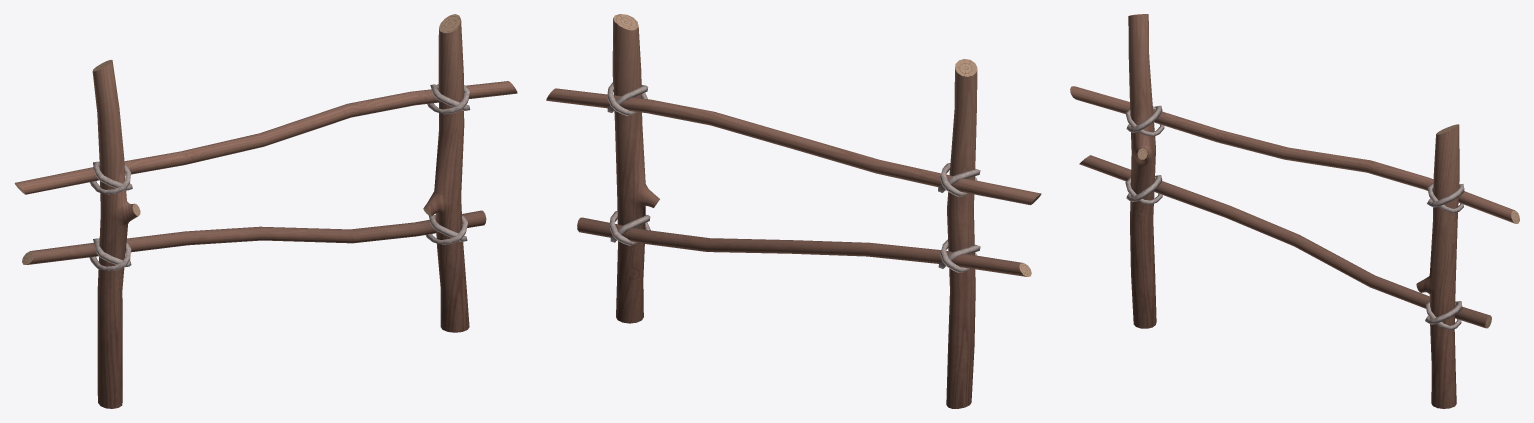
3 views of the same model, side by side, from view 1: azimuth 30°, elevation 25°; view 2: azimuth 150°, elevation 25°; view 3: azimuth 330°, elevation 25° (orthographic). The views are drawn at different scales.
Parts seen in each view (by area): view 1: submesh_0; view 2: submesh_0; view 3: submesh_0.
Boxes of the visible parts, x1,y1,x2,y2 form: submesh_0: (14,14,517,408); submesh_0: (546,14,1041,408); submesh_0: (1070,14,1519,408).
Bounding box in the file's own units: 2.54 × 1.69 × 0.2666.
1 material, 1 textured.
